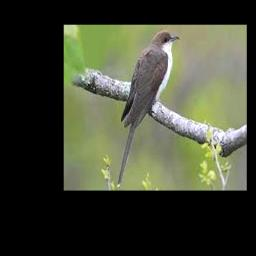Cuckoo: (117, 30, 179, 187)
